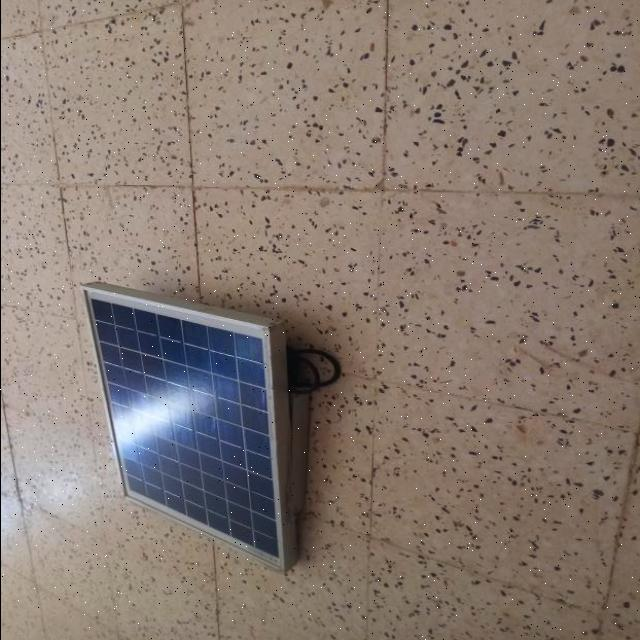Normal Solar Panel: (80, 285, 284, 573)
